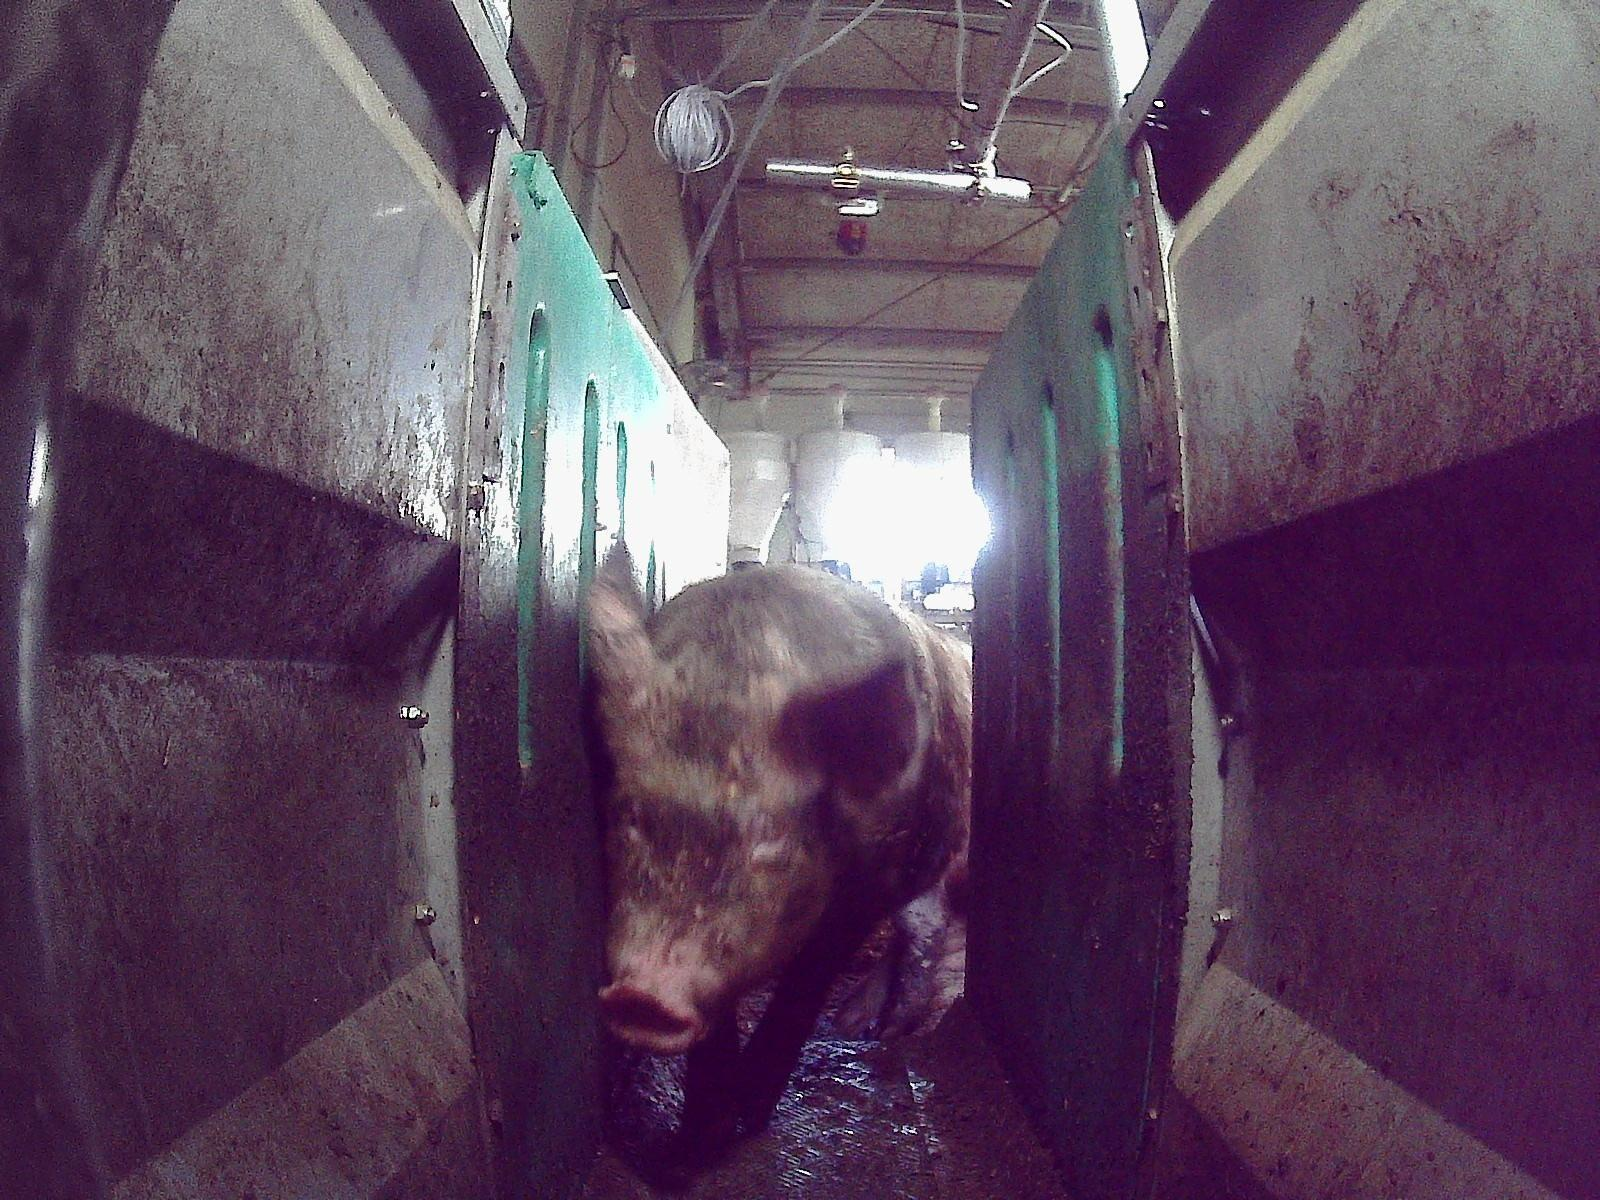Face: (594, 638, 849, 1051)
